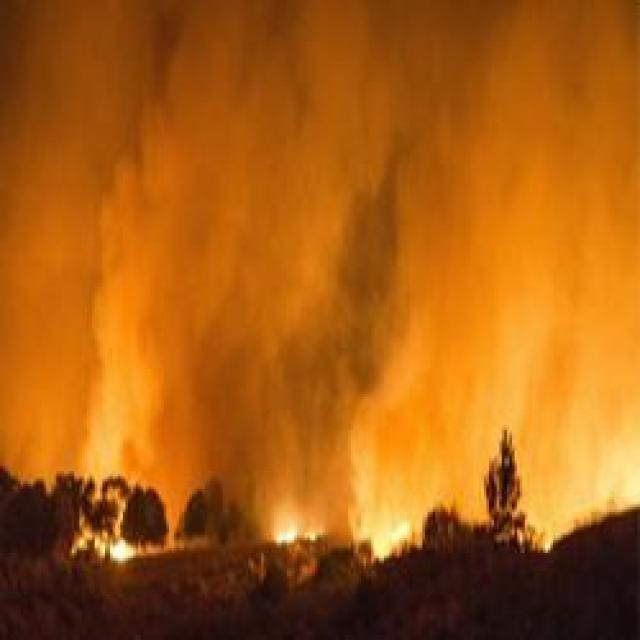Fire: (253, 502, 330, 560), (106, 512, 156, 570), (370, 515, 426, 563)
Smoke: (5, 0, 640, 513)
